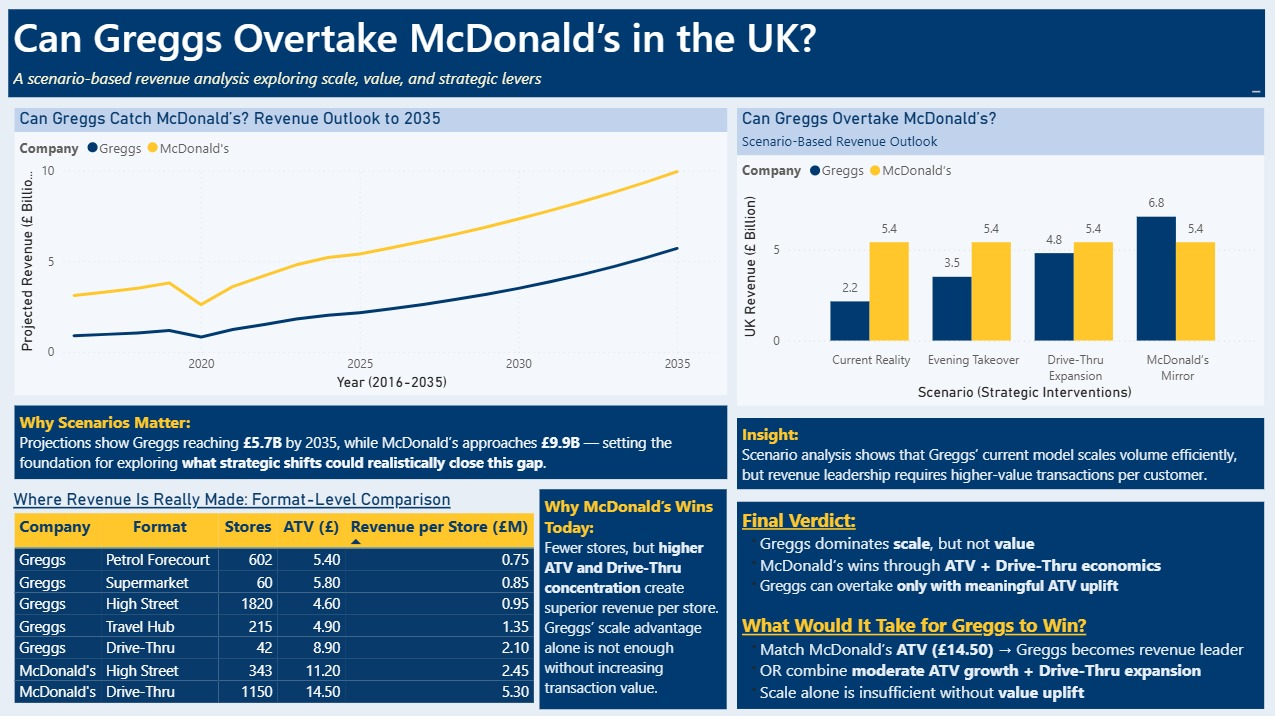

This screenshot's page, from the dashboard's own definition file:
{"tool":"powerbi","page":{"name":"Page 4","canvas":[1280,720],"ordinal":3},"visuals":[{"type":"shape","box":[0,0,1280,720],"z":0},{"type":"lineChart","title":"Can Greggs Catch McDonald’s? Revenue Outlook to 2035","fields":{"Category":["Table14.Year"],"Series":["Table14.Company Name"],"Y":["Sum(Table14.Revenue (£B))"]},"box":[17.5,110,712.5,287.5],"z":1000},{"type":"textbox","title":"Can Greggs Overtake McDonald’s in the UK?","box":[11,11,1257.1,88],"z":2000},{"type":"tableEx","title":"Where Revenue Is Really Made: Format-Level Comparison","fields":{"Values":["Table15.Company","Table15.Store Type","Sum(Table15.No. of Stores)","Sum(Table15.Avg. Transaction Value (ATV))","Sum(Table15.Estimated Annual Revenue per Store(£M))"]},"box":[11.2,491.2,531.2,221.2],"z":3000},{"type":"clusteredColumnChart","title":"Can Greggs Overtake McDonald’s? ","fields":{"Category":["Table18.Scenario_Name"],"Series":["Table18.Company"],"Y":["Sum(Table18.Revenue_GBP_Bn)"]},"box":[740,110,527.5,297.5],"z":4000},{"type":"textbox","title":"Why McDonald’s Wins Today: Fewer stores, but higher ATV and Drive-Thru concentration create superior revenue per store. Greggs’ scale advantage alone is not enough without increasing transaction value","box":[542.5,491.2,187.5,220],"z":5000},{"type":"textbox","title":"Why McDonald’s Wins Today: Fewer stores, but higher ATV and Drive-Thru concentration create superior revenue per store. Greggs’ scale advantage alone is not enough without increasing transaction value","box":[17.5,407.5,712.5,73.8],"z":6000},{"type":"textbox","title":"Why McDonald’s Wins Today: Fewer stores, but higher ATV and Drive-Thru concentration create superior revenue per store. Greggs’ scale advantage alone is not enough without increasing transaction value","box":[740,420,527.5,71.2],"z":7000},{"type":"textbox","title":"Why McDonald’s Wins Today: Fewer stores, but higher ATV and Drive-Thru concentration create superior revenue per store. Greggs’ scale advantage alone is not enough without increasing transaction value","box":[740,503.8,527.5,207.5],"z":8000}]}

Visuals, with their boxes in screenshot pixels (x1, y1, x2, y2), scaled from the page's 1280x720 canvas onto the 1275x716 screenshot:
shape: detection(0, 0, 1274, 715)
"Can Greggs Catch McDonald’s? Revenue Outlook to 2035" lineChart: detection(17, 109, 727, 395)
"Can Greggs Overtake McDonald’s in the UK?" textbox: detection(11, 11, 1263, 98)
"Where Revenue Is Really Made: Format-Level Comparison" tableEx: detection(11, 488, 540, 708)
"Can Greggs Overtake McDonald’s? " clusteredColumnChart: detection(737, 109, 1263, 405)
"Why McDonald’s Wins Today: Fewer stores, but higher ATV and Drive-Thru concentration create superior revenue per store. Greggs’ scale advantage alone is not enough without increasing transaction value" textbox: detection(540, 488, 727, 707)
"Why McDonald’s Wins Today: Fewer stores, but higher ATV and Drive-Thru concentration create superior revenue per store. Greggs’ scale advantage alone is not enough without increasing transaction value" textbox: detection(17, 405, 727, 479)
"Why McDonald’s Wins Today: Fewer stores, but higher ATV and Drive-Thru concentration create superior revenue per store. Greggs’ scale advantage alone is not enough without increasing transaction value" textbox: detection(737, 418, 1263, 488)
"Why McDonald’s Wins Today: Fewer stores, but higher ATV and Drive-Thru concentration create superior revenue per store. Greggs’ scale advantage alone is not enough without increasing transaction value" textbox: detection(737, 501, 1263, 707)
